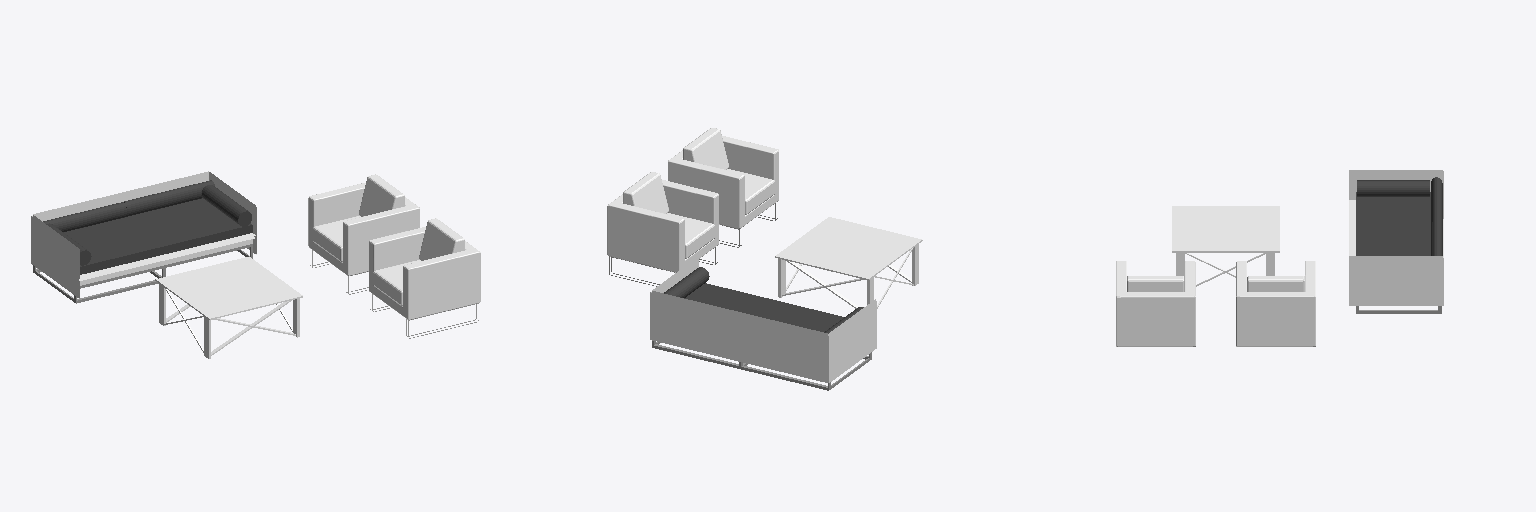
The model's file is lounge_furniture.obj.
3 renders of one model, left to right at view 1: azimuth 30°, elevation 25°; view 2: azimuth 150°, elevation 25°; view 3: azimuth 270°, elevation 25°, orthographic.
Visible parts, largest first — view 1: group_0, OFS_cubic.dwg_ID215, Table_Top_ID166, OFS_cubic.dwg_ID209, OFS_cubic.dwg_ID203, group_1, Metal_suports_ID158, group_2; view 2: group_0, OFS_cubic.dwg_ID215, Table_Top_ID166, OFS_cubic.dwg_ID209, OFS_cubic.dwg_ID203, group_1, Metal_suports_ID158, group_2; view 3: group_0, OFS_cubic.dwg_ID215, Table_Top_ID166, OFS_cubic.dwg_ID209.
Part boxes in pixels (x1,y1,x2,y2): group_0: (31, 171, 256, 297); OFS_cubic.dwg_ID215: (308, 183, 480, 319); Table_Top_ID166: (155, 257, 302, 319); OFS_cubic.dwg_ID209: (359, 174, 464, 260); OFS_cubic.dwg_ID203: (313, 216, 420, 305); group_1: (33, 244, 252, 303); Metal_suports_ID158: (164, 287, 295, 355); group_2: (159, 284, 299, 358); group_0: (650, 256, 876, 382); OFS_cubic.dwg_ID215: (607, 136, 778, 272); Table_Top_ID166: (775, 217, 922, 280); OFS_cubic.dwg_ID209: (623, 128, 728, 213); OFS_cubic.dwg_ID203: (667, 169, 774, 258); group_1: (652, 341, 871, 390); Metal_suports_ID158: (782, 248, 913, 308); group_2: (778, 244, 918, 304); group_0: (1349, 170, 1443, 305); OFS_cubic.dwg_ID215: (1116, 261, 1315, 346); Table_Top_ID166: (1172, 206, 1279, 252); OFS_cubic.dwg_ID209: (1127, 276, 1304, 291).
Bounding box in the file's own units: 2.79 × 0.7632 × 2.77.